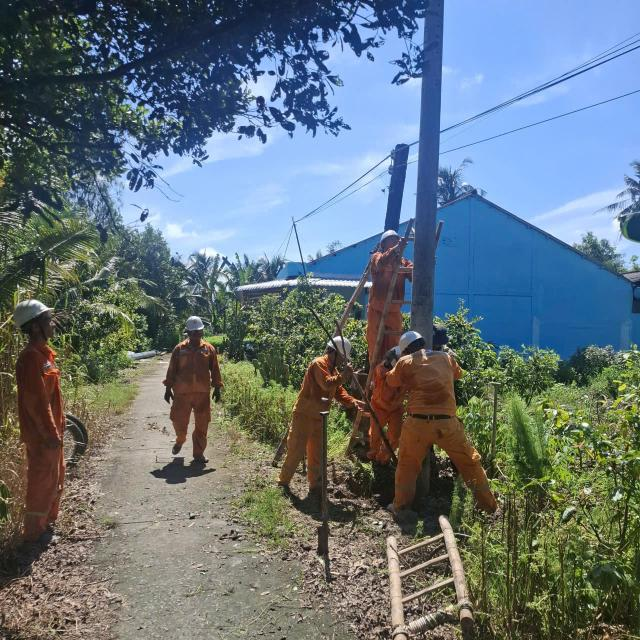helmet: (8, 290, 63, 332), (169, 308, 222, 340), (378, 214, 415, 253), (325, 330, 364, 363), (397, 329, 437, 350), (388, 342, 410, 373)
shoes: (382, 492, 435, 520), (191, 438, 219, 474), (16, 533, 68, 549), (273, 474, 300, 503), (166, 430, 187, 460), (46, 519, 73, 538)
